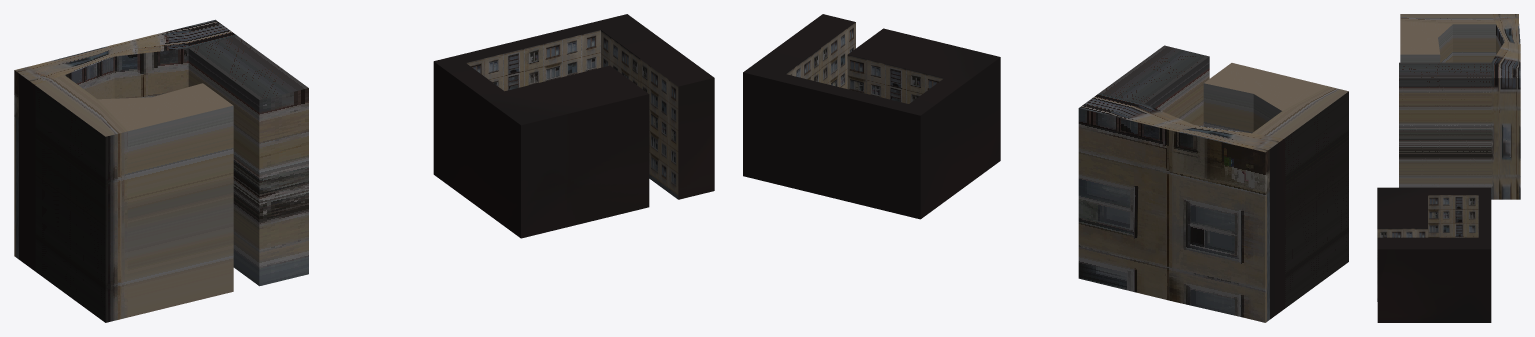
Rendered from Pereulok.glb.
3 views of the same model, side by side, from view 1: azimuth 30°, elevation 25°; view 2: azimuth 150°, elevation 25°; view 3: azimuth 270°, elevation 25° (orthographic). The views are drawn at different scales.
Parts seen in each view (by area): view 1: Cube; view 2: Cube; view 3: Cube.
Part boxes in pixels (x1,y1,x2,y2): Cube: [14, 14, 714, 322]; Cube: [743, 14, 1348, 322]; Cube: [1377, 14, 1520, 322].
Size of the model in its own units: 295 by 88.83 by 95.27.
1 material, 1 textured.
